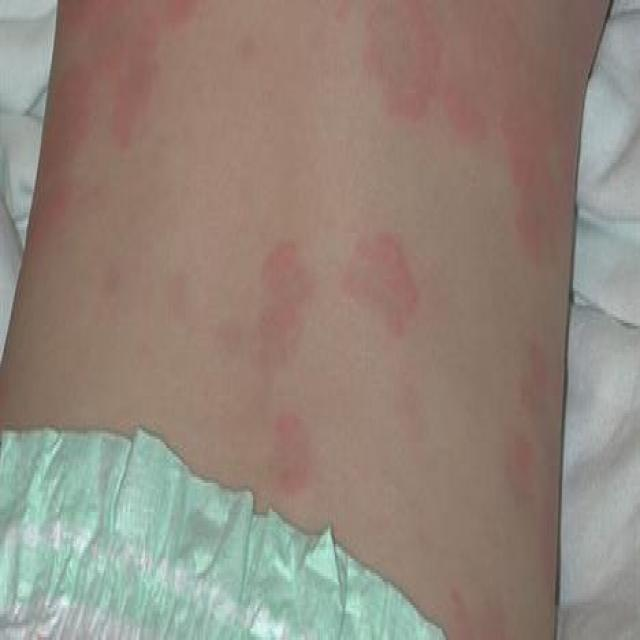hives: (41, 0, 581, 604)
